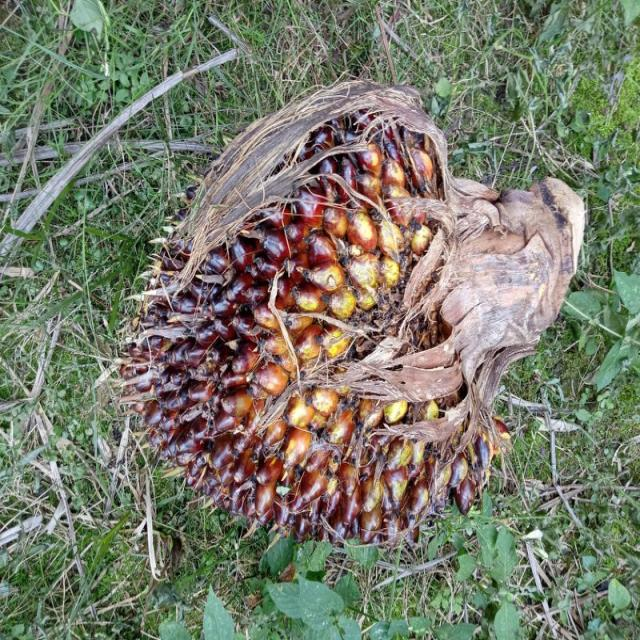fraksi 00: (134, 80, 500, 546)
